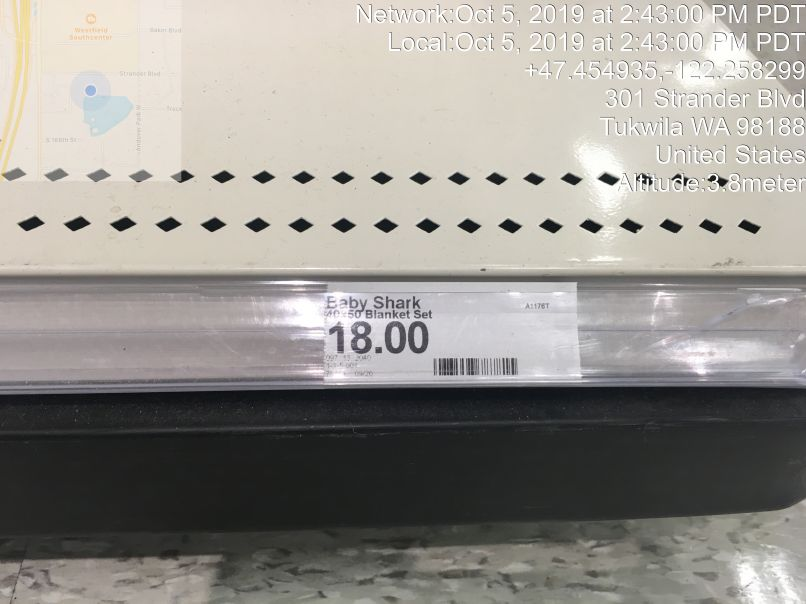Label: (317, 273, 586, 387)
Location: (594, 83, 806, 171)
Time: (352, 2, 806, 59)
Void: (15, 17, 789, 253)
